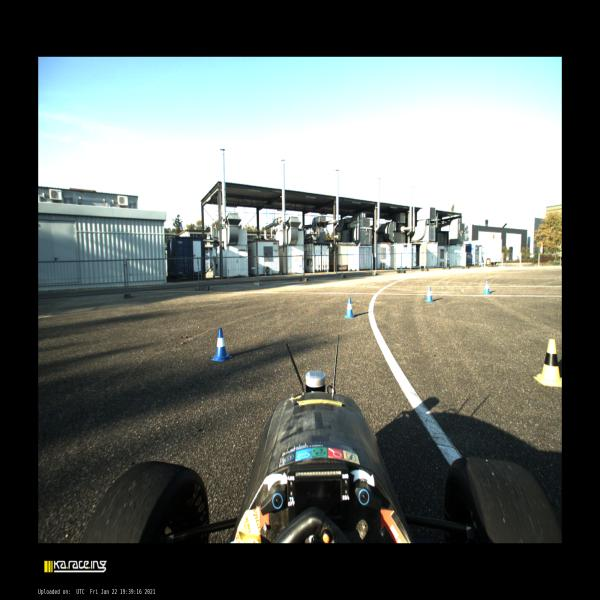blue_cone: (211, 328, 232, 362), (344, 298, 354, 318), (425, 287, 434, 302), (482, 280, 490, 294)
yellow_cone: (533, 339, 562, 386)
